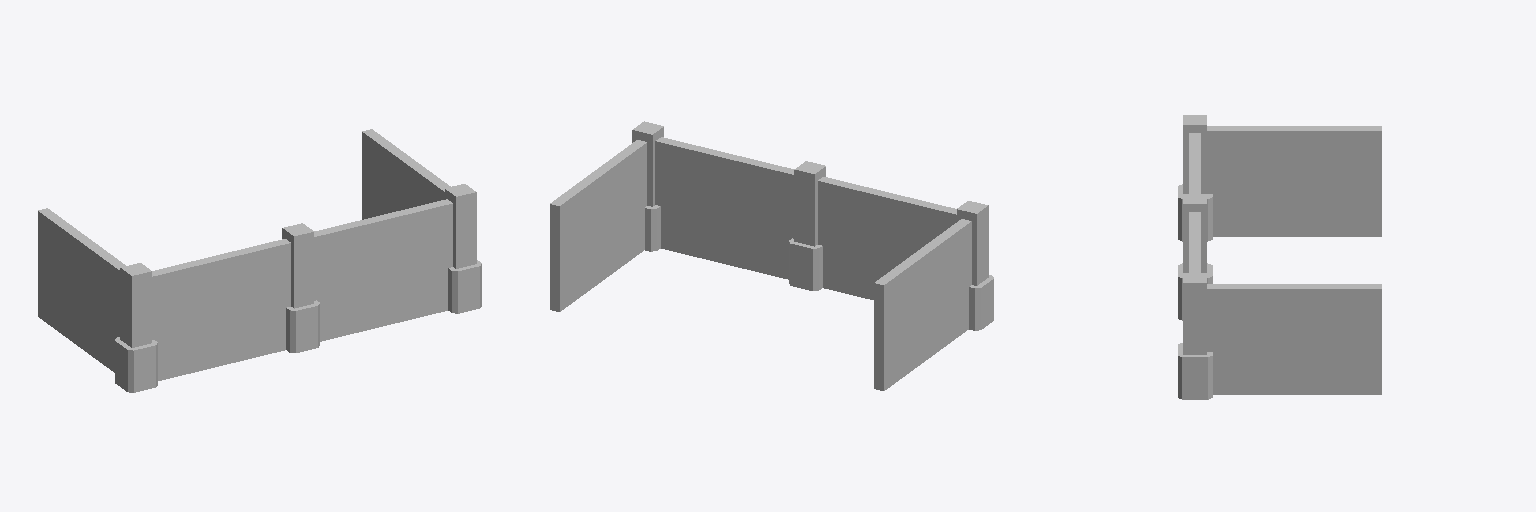
File: suburban_fence-1x2.obj
3 renders of one model, left to right at view 1: azimuth 30°, elevation 25°; view 2: azimuth 150°, elevation 25°; view 3: azimuth 270°, elevation 25°, orthographic.
Parts seen in each view (by area): view 1: fence-1x2; view 2: fence-1x2; view 3: fence-1x2.
Boxes of the visible parts, x1,y1,x2,y2 form: fence-1x2: [38, 129, 481, 392]; fence-1x2: [550, 121, 993, 390]; fence-1x2: [1178, 115, 1381, 399].
Bounding box in the file's own units: 0.875 × 0.27 × 0.4375.